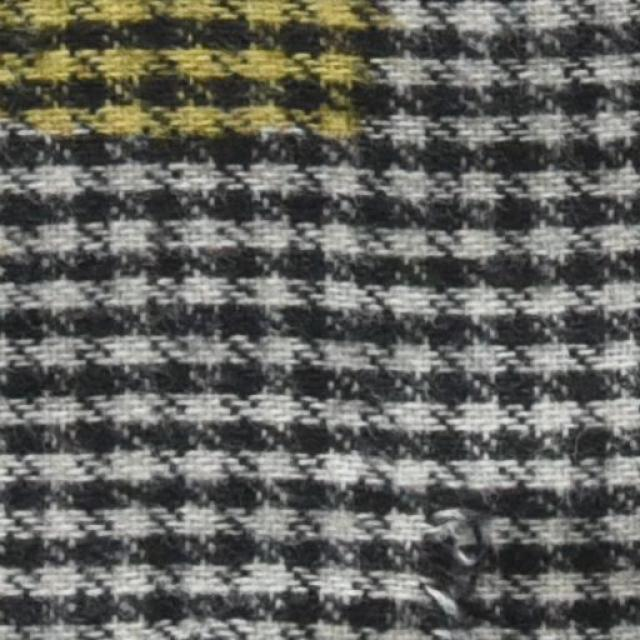Snag: (416, 465, 521, 639)
Stain: (0, 0, 377, 152)
